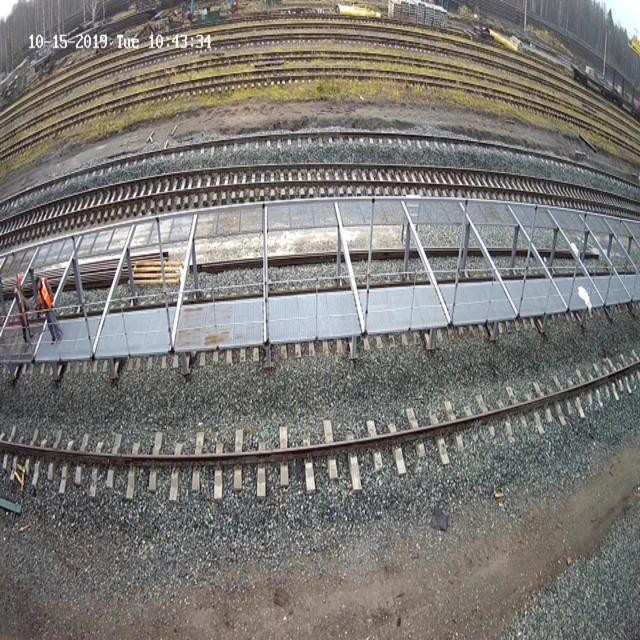Helmet: (17, 273, 22, 285)
Person: (36, 276, 63, 344), (13, 272, 34, 344)
